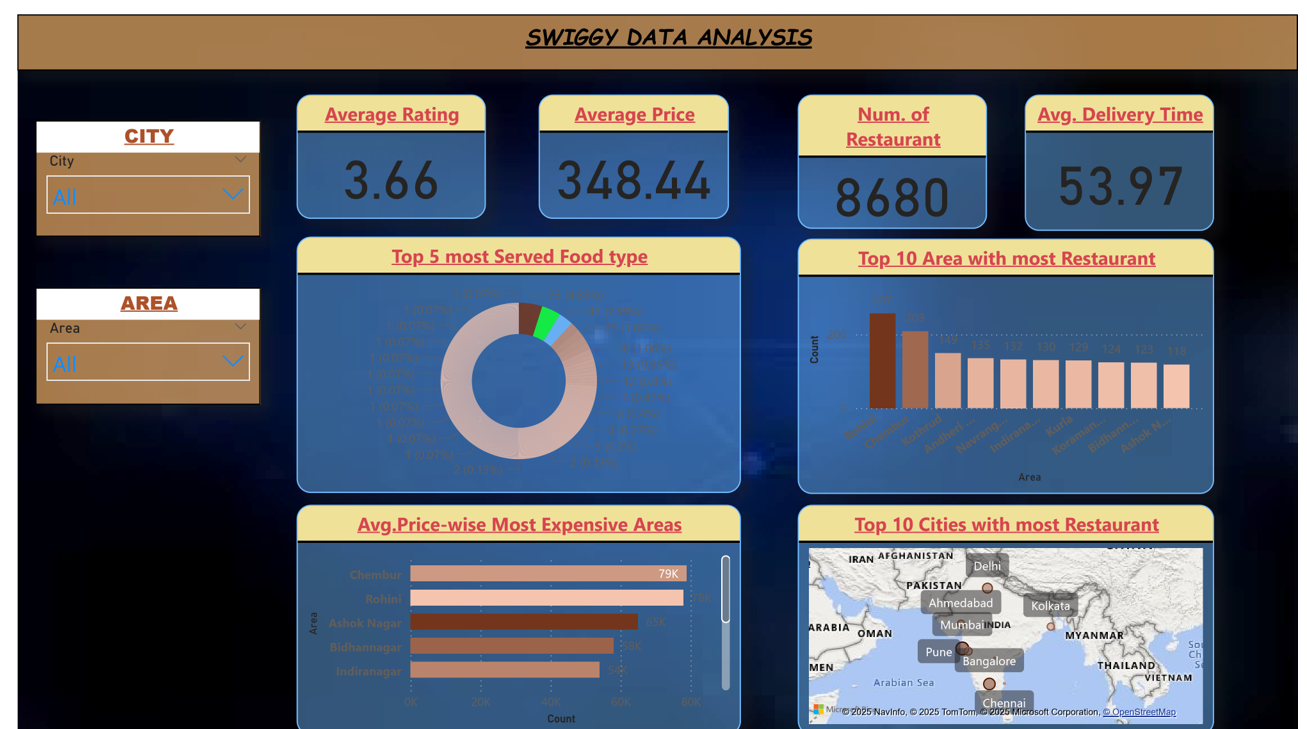

The dashboard page shown, as its layout file describes it:
{"tool":"powerbi","page":{"name":"Page 1","canvas":[1280,720],"ordinal":0},"visuals":[{"type":"card","title":"Average Rating","fields":{"Values":["Avg(swiggy[1].Avg ratings)"]},"box":[278.6,79.6,189.4,124.9],"z":0},{"type":"card","title":"Average Price","fields":{"Values":["Avg(swiggy[1].Price)"]},"box":[521.4,79.6,189.4,124.9],"z":1000},{"type":"card","title":"Num. of  Restaurant","fields":{"Values":["CountNonNull(swiggy[1].ID)"]},"box":[780,80,188.6,134.3],"z":2000},{"type":"card","title":"Avg. Delivery Time","fields":{"Values":["Avg(swiggy[1].Delivery time)"]},"box":[1007.1,80,188.6,135.7],"z":3000},{"type":"columnChart","title":"Top 10 Area with most Restaurant ","fields":{"Category":["swiggy[1].Area"],"Y":["CountNonNull(swiggy[1].ID)"]},"box":[780,224.3,415.7,254.3],"z":4000},{"type":"donutChart","title":"Top 5 most Served Food type","fields":{"Category":["swiggy[1].Food type"],"Y":["CountNonNull(swiggy[1].ID)"]},"box":[278.6,222.3,444.6,255.2],"z":5000},{"type":"map","title":"Top 10 Cities with most Restaurant ","fields":{"Category":["swiggy[1].City"],"Size":["CountNonNull(swiggy[1].ID)"]},"box":[780,490,415.7,230],"z":6000},{"type":"clusteredBarChart","title":"Avg.Price-wise Most Expensive Areas","fields":{"Category":["swiggy[1].Area"],"Y":["Sum(swiggy[1].Price)"]},"box":[278.6,489.9,444.6,230.5],"z":7000},{"type":"textbox","box":[0,0,1280,55.7],"z":8000},{"type":"slicer","title":"CITY","fields":{"Values":["swiggy[1].City"]},"box":[17.8,105.7,225,116.6],"z":9000},{"type":"slicer","title":"AREA","fields":{"Values":["swiggy[1].Area"]},"box":[17.8,273.1,225,116.6],"z":10000}]}

Visuals, with their boxes in screenshot pixels (x1, y1, x2, y2), scaled from the page's 1280x720 canvas onto the 1307x729 screenshot:
"Average Rating" card: 284:81:478:207
"Average Price" card: 532:81:726:207
"Num. of  Restaurant" card: 796:81:989:217
"Avg. Delivery Time" card: 1028:81:1221:218
"Top 10 Area with most Restaurant " columnChart: 796:227:1221:485
"Top 5 most Served Food type" donutChart: 284:225:738:483
"Top 10 Cities with most Restaurant " map: 796:496:1221:728
"Avg.Price-wise Most Expensive Areas" clusteredBarChart: 284:496:738:728
textbox: 0:0:1306:56
"CITY" slicer: 18:107:248:225
"AREA" slicer: 18:277:248:395
